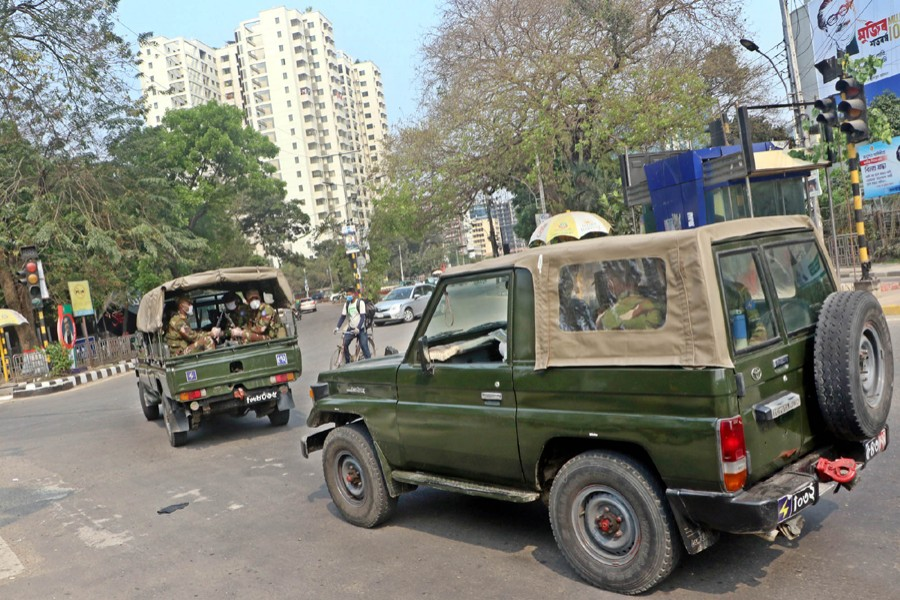army vehicle: (300, 215, 897, 592), (131, 264, 302, 449)
bicycle: (329, 325, 378, 366)
car: (371, 284, 449, 323), (299, 297, 317, 315)
wheelbarrow: (331, 293, 348, 304)
